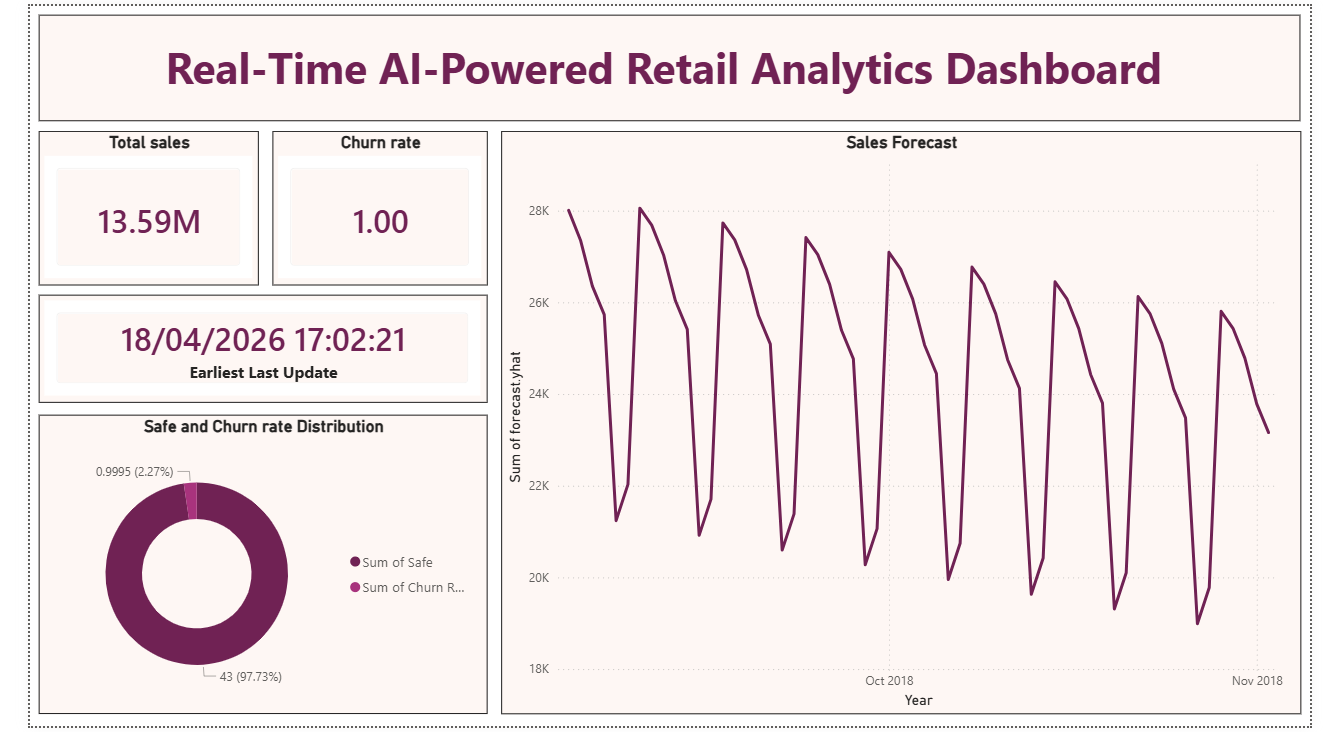

Layout of this report page (visuals, bound fields, positions):
{"tool":"powerbi","page":{"name":"Page 1","canvas":[1280,720],"ordinal":0},"visuals":[{"type":"cardVisual","title":"Total sales","fields":{"Data":["Sum(total_sales.value)"]},"box":[8.6,124.7,220.1,154.1],"z":0},{"type":"cardVisual","title":"Churn rate","fields":{"Data":["Sum(churn_stats.Churn Rate)"]},"box":[242.1,124.7,215.2,154.1],"z":1},{"type":"donutChart","title":"Safe and Churn rate Distribution","fields":{"Y":["Sum(churn_stats.Safe)","Sum(churn_stats.Churn Rate)"]},"box":[8.6,408.4,448.8,299.6],"z":2},{"type":"lineChart","title":"Sales Forecast","fields":{"Category":["sales_forecast.forecast.ds.Variation.Date Hierarchy.Year","sales_forecast.forecast.ds.Variation.Date Hierarchy.Quarter","sales_forecast.forecast.ds.Variation.Date Hierarchy.Month","sales_forecast.forecast.ds.Variation.Date Hierarchy.Day"],"Y":["Sum(sales_forecast.forecast.yhat)"]},"box":[470.8,124.7,799.7,583.3],"z":3},{"type":"textbox","box":[8.6,8.6,1262,106.4],"z":4},{"type":"cardVisual","fields":{"Data":["Min(Last Update.Last Update)"]},"box":[8.6,288.6,448.8,107.6],"z":5}]}

Visuals, with their boxes in screenshot pixels (x1, y1, x2, y2), scaled from the page's 1280x720 canvas onto the 1323x732 screenshot:
"Total sales" cardVisual: region(9, 127, 236, 283)
"Churn rate" cardVisual: region(250, 127, 473, 283)
"Safe and Churn rate Distribution" donutChart: region(9, 415, 473, 720)
"Sales Forecast" lineChart: region(487, 127, 1313, 720)
textbox: region(9, 9, 1313, 117)
cardVisual - Min(Last Update.Last Update): region(9, 293, 473, 403)
